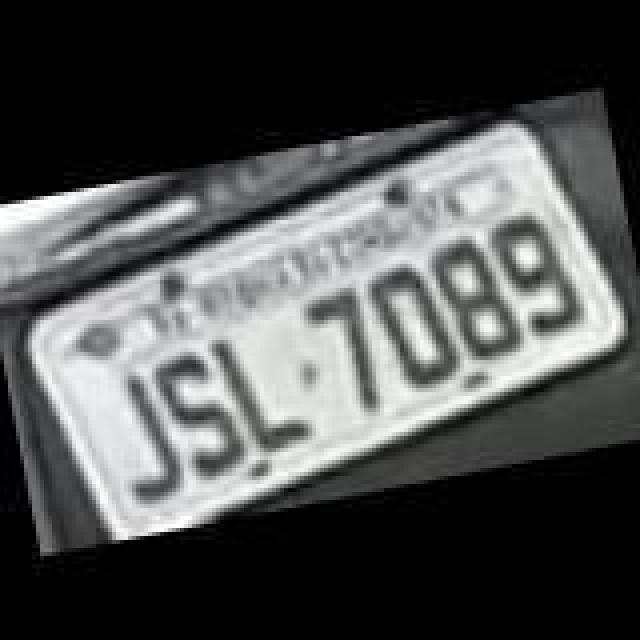7: (296, 284, 392, 420)
8: (428, 228, 532, 364)
9: (482, 202, 590, 342)
J: (106, 360, 190, 504)
L: (206, 316, 322, 460)
O: (366, 258, 466, 398)
S: (154, 336, 246, 480)
